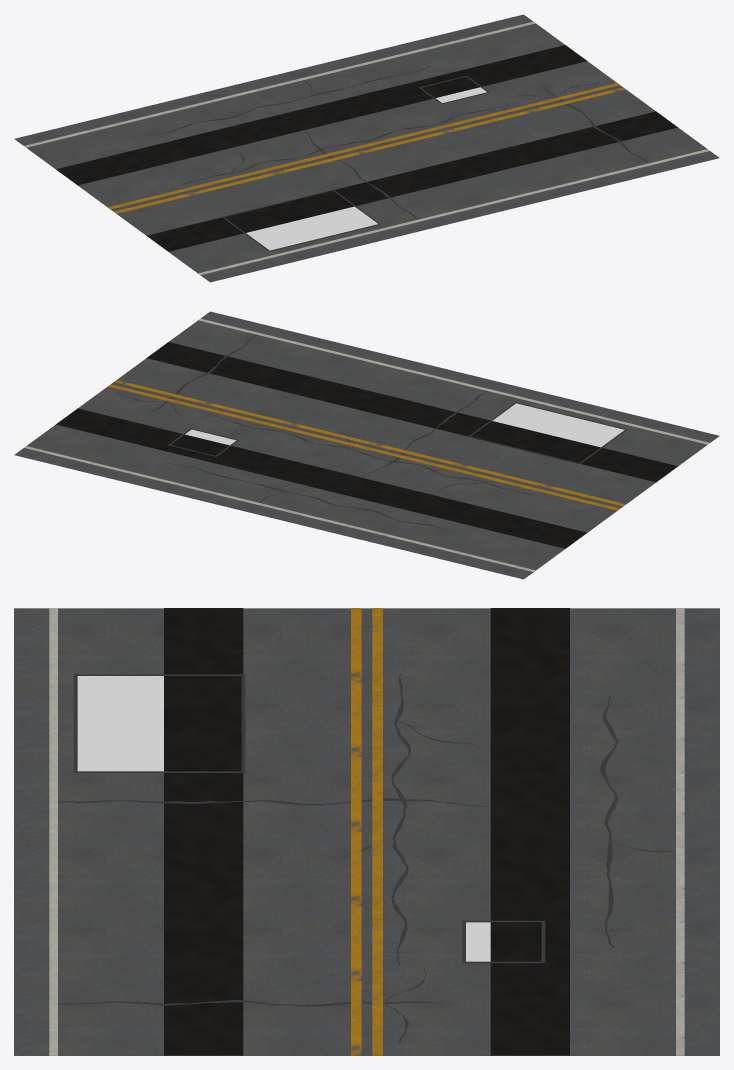
The model's file is StreetRoad.fbx.
The picture shows the model from 3 angles, top to bottom: view 1: azimuth 30°, elevation 25°; view 2: azimuth 150°, elevation 25°; view 3: azimuth 270°, elevation 25°; orthographic projection. The views are drawn at different scales.
Parts seen in each view (by area): view 1: StreetRoad_Road; view 2: StreetRoad_Road; view 3: StreetRoad_Road.
Part boxes in pixels (bbox=[...]): StreetRoad_Road: bbox=[14, 14, 719, 282]; StreetRoad_Road: bbox=[14, 311, 719, 579]; StreetRoad_Road: bbox=[14, 608, 719, 1055].
Bounding box in the file's own units: 12 × 0.004 × 8.
